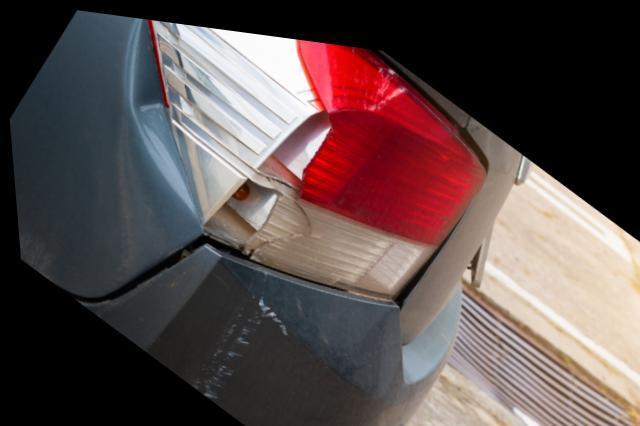dent: (125, 14, 191, 204)
lamp broken: (149, 16, 485, 292)
scratch: (182, 279, 288, 400)
